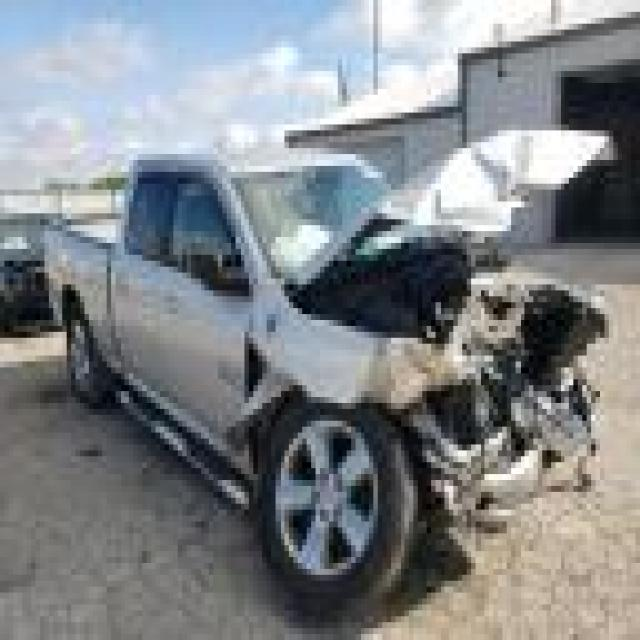severe: (267, 186, 635, 620)
